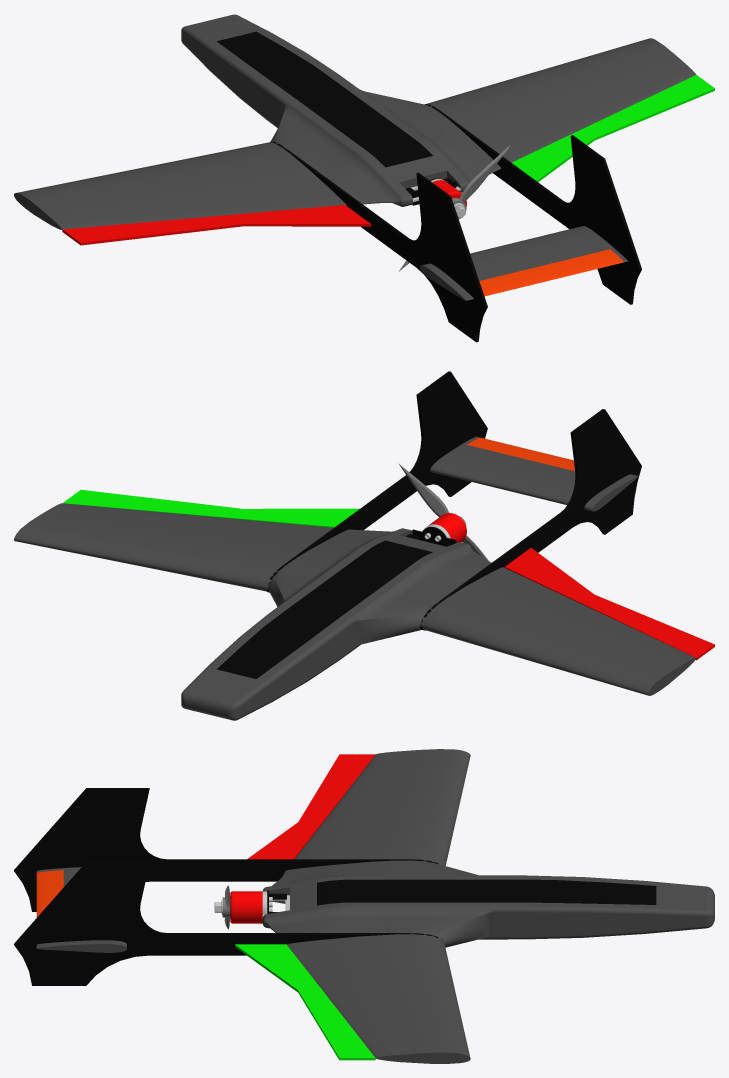
File: iNav-rudderless-plane.obj
3 renders of one model, top to bottom at view 1: azimuth 30°, elevation 25°; view 2: azimuth 150°, elevation 25°; view 3: azimuth 270°, elevation 25°, orthographic.
Visible parts, largest first — view 1: Plane_Aileron_L; view 2: Plane_Aileron_L; view 3: Plane_Aileron_L.
Boxes of the visible parts, x1,y1,x2,y2 form: Plane_Aileron_L: (14,14,714,342); Plane_Aileron_L: (14,371,714,720); Plane_Aileron_L: (14,749,714,1063).
Bounding box in the file's own units: 10.6 × 2.14 × 10.35.
